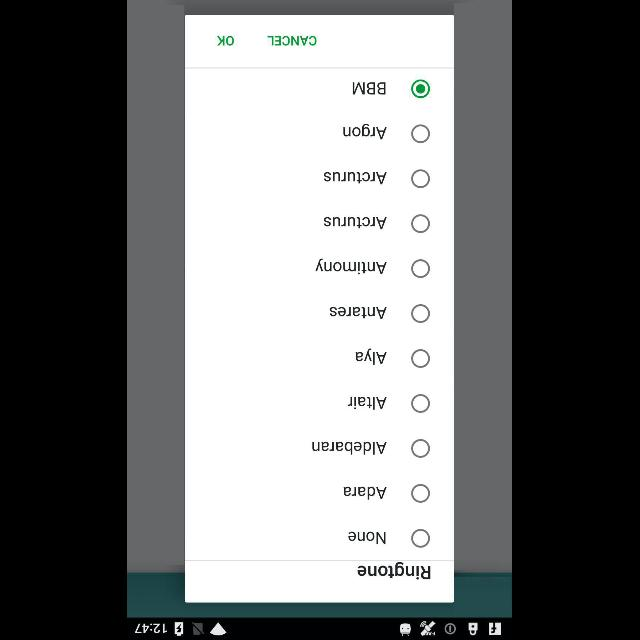checkbox: (412, 530, 432, 548), (412, 440, 432, 458), (412, 350, 432, 368), (412, 125, 432, 143), (412, 80, 432, 98), (413, 214, 431, 233), (413, 484, 431, 502), (413, 395, 431, 413), (413, 305, 431, 323), (413, 260, 431, 278), (413, 170, 431, 188)
panel: (185, 15, 455, 602)
text: (358, 561, 432, 579), (316, 258, 388, 274), (312, 441, 388, 455), (324, 217, 388, 230), (330, 306, 388, 320), (324, 172, 388, 184), (343, 123, 387, 139), (344, 486, 388, 499), (349, 530, 387, 544), (348, 396, 388, 409), (356, 348, 388, 364), (268, 36, 318, 46), (354, 82, 386, 96), (218, 36, 235, 46)
uppertaskbar: (128, 617, 512, 639)
